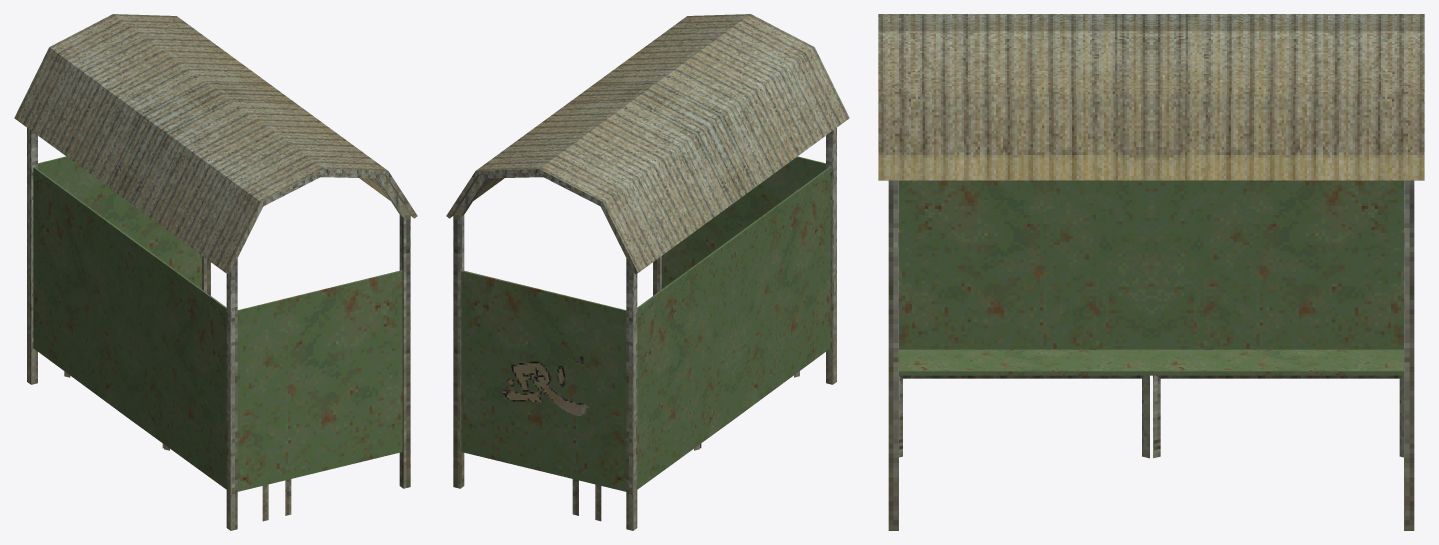
File: busstop_graffiti_round_roof.glb
The picture shows the model from 3 angles, left to right: view 1: azimuth 30°, elevation 25°; view 2: azimuth 150°, elevation 25°; view 3: azimuth 270°, elevation 25°; orthographic projection. The views are drawn at different scales.
Visible parts, largest first — view 1: busstop_graffiti_round_roof; view 2: busstop_graffiti_round_roof; view 3: busstop_graffiti_round_roof.
Boxes of the visible parts, bbox=[...] form: busstop_graffiti_round_roof: bbox=[14, 14, 417, 530]; busstop_graffiti_round_roof: bbox=[446, 14, 849, 530]; busstop_graffiti_round_roof: bbox=[878, 14, 1424, 530].
Size of the model in its own units: 2.22 by 3.8 by 4.24.
Materials: 1 (1 with a texture image).
